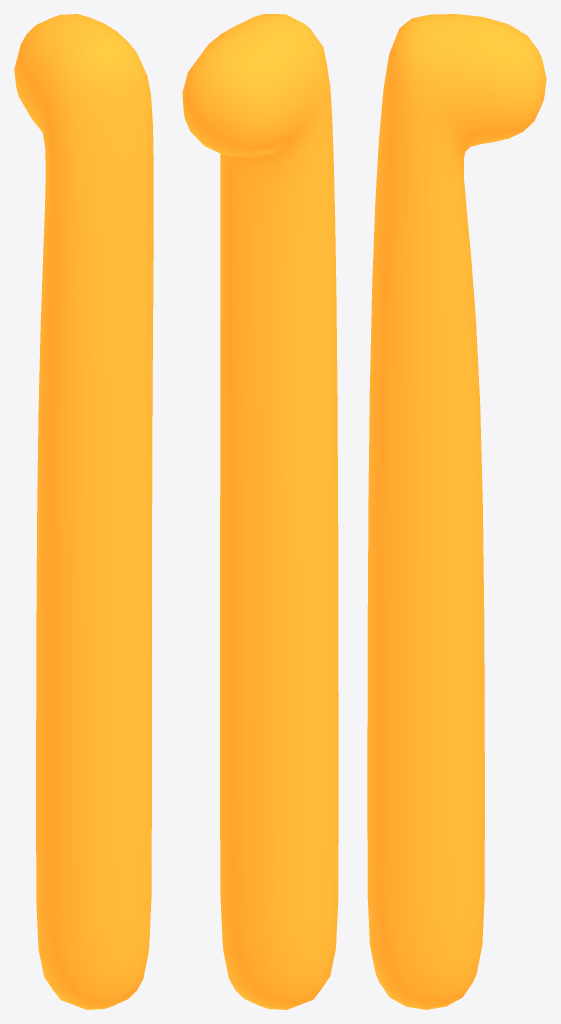
File: Corrientedelava.fbx
3 renders of one model, left to right at view 1: azimuth 30°, elevation 25°; view 2: azimuth 150°, elevation 25°; view 3: azimuth 270°, elevation 25°, orthographic. The views are drawn at different scales.
Parts seen in each view (by area): view 1: Cube.001; view 2: Cube.001; view 3: Cube.001.
Part boxes in pixels (<box>): Cube.001: <box>14,14,153,1009</box>; Cube.001: <box>182,14,338,1009</box>; Cube.001: <box>367,14,546,1009</box>.
Bounding box in the file's own units: 4.04 × 35.77 × 5.89.
Materials: 1 (1 with a texture image).
